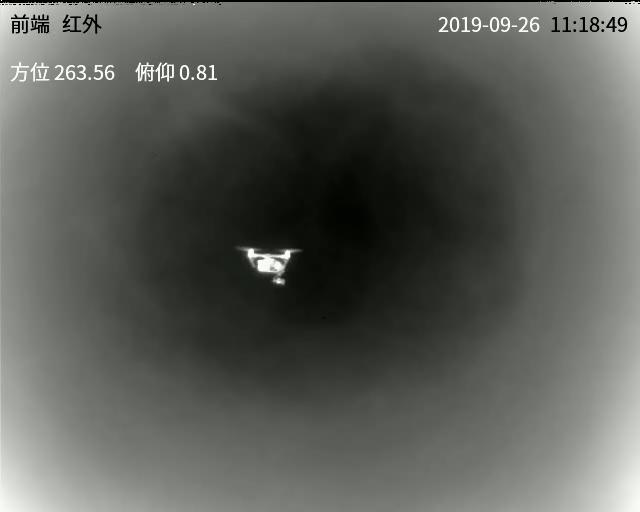uav: (229, 240, 306, 294)
